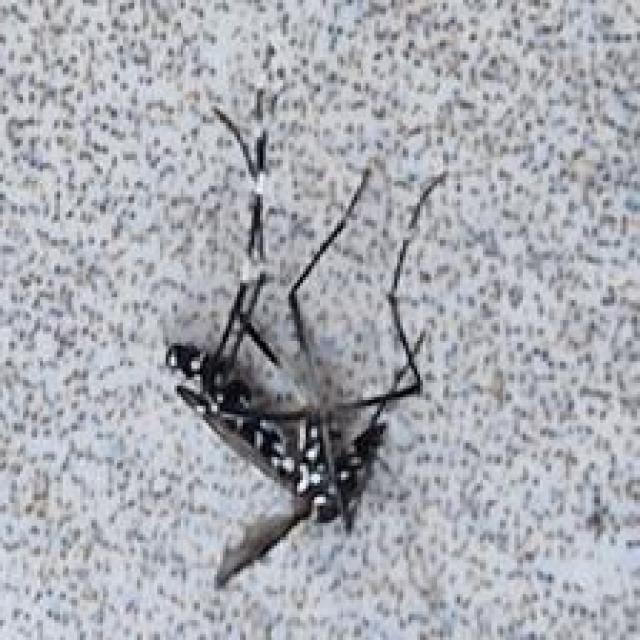Aedes albopictus: (163, 83, 448, 591)
